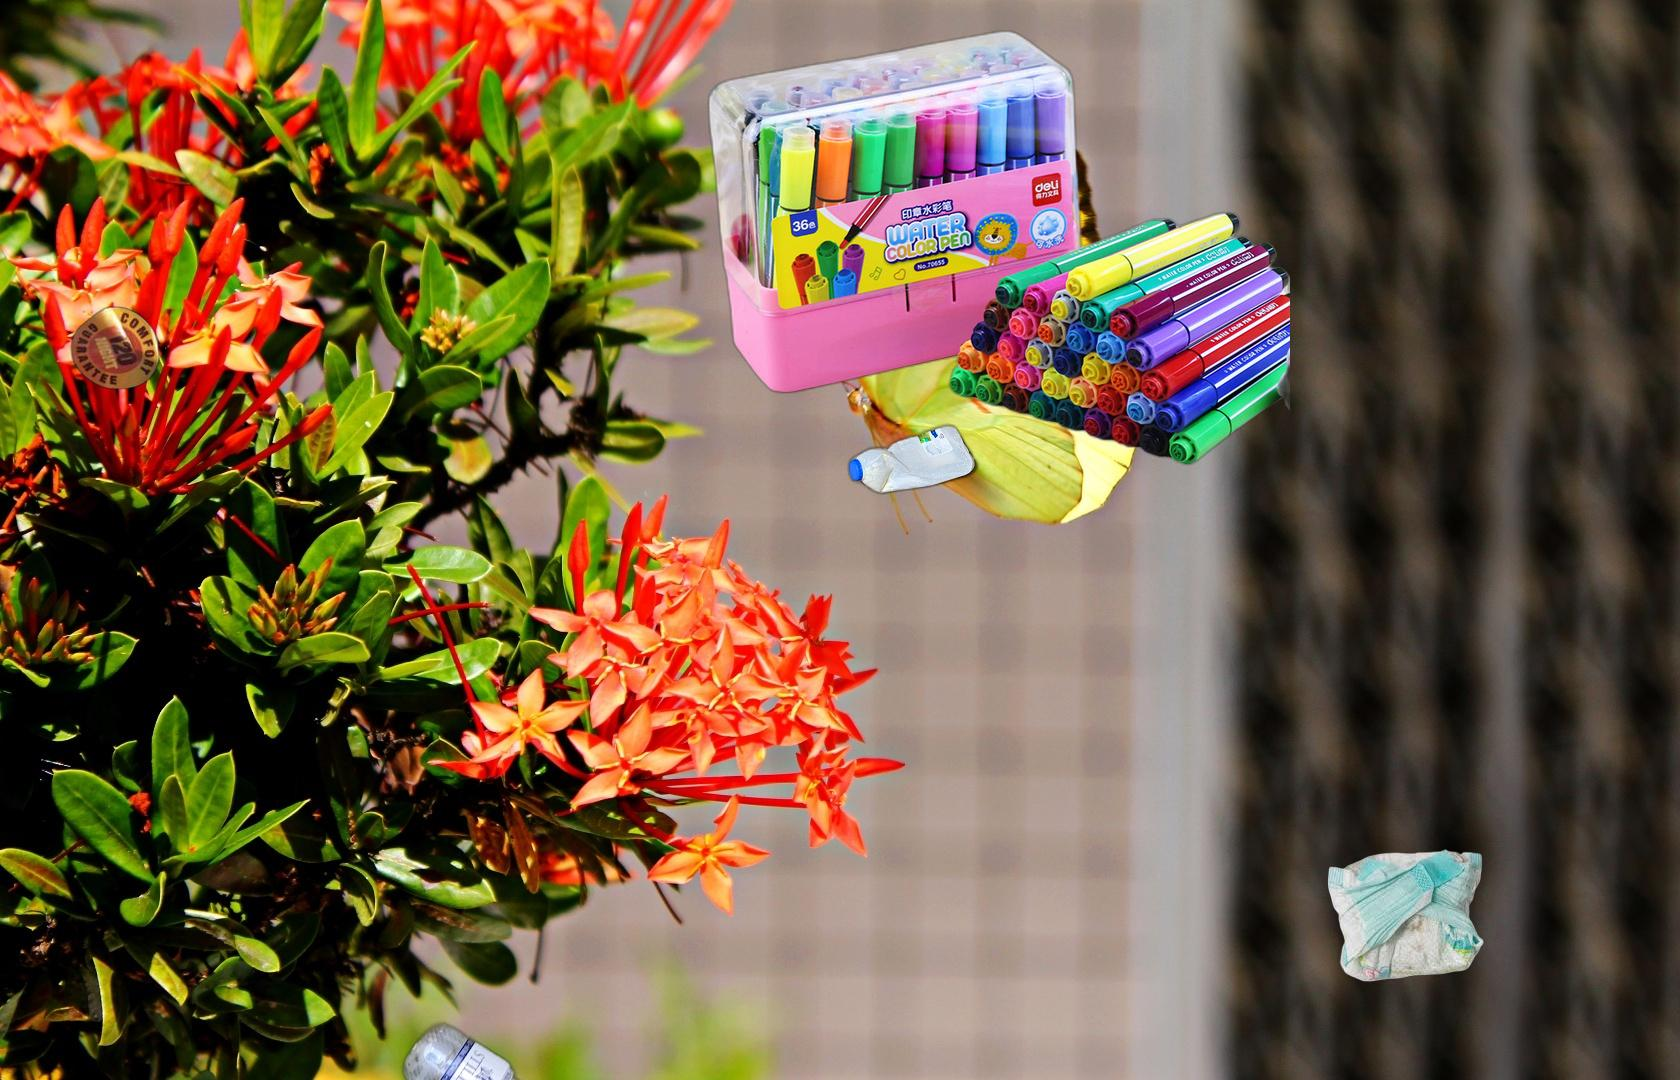paper: (67, 302, 396, 684)
penholder: (703, 24, 1291, 470)
plastic-bottles: (844, 144, 1166, 500), (399, 1018, 609, 1080)
trash: (1325, 849, 1487, 984)
